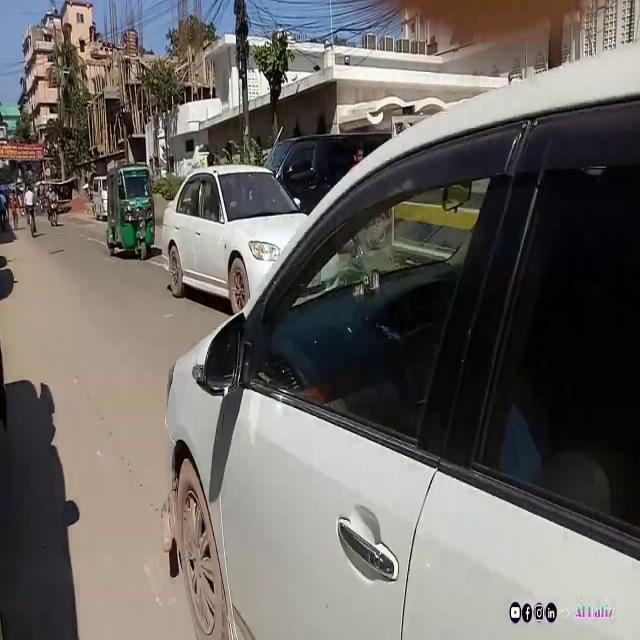black: (269, 128, 393, 218)
white: (176, 61, 640, 640), (165, 163, 342, 324)
